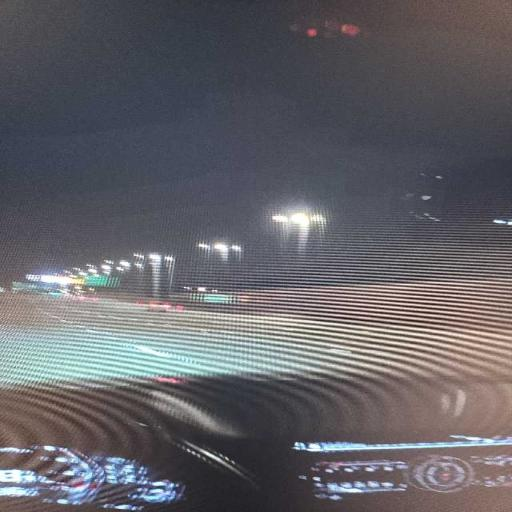car: (136, 301, 183, 312)
lane: (0, 298, 511, 385)
